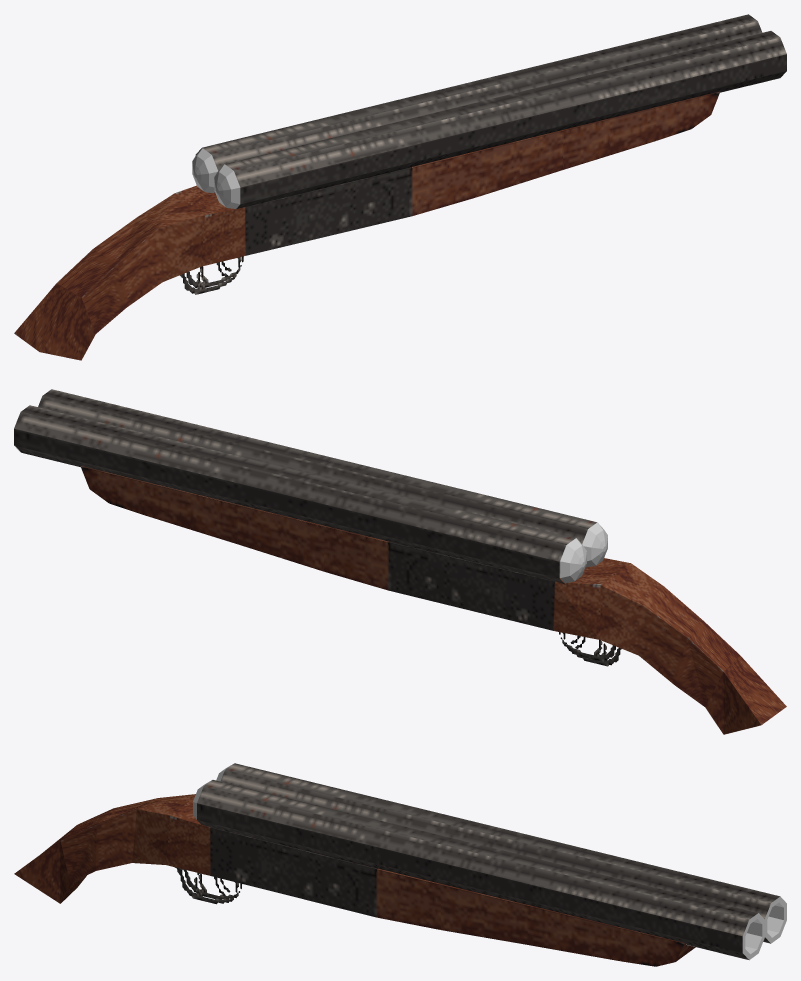
The model's file is sawnoff.obj.
3 renders of one model, top to bottom at view 1: azimuth 30°, elevation 25°; view 2: azimuth 150°, elevation 25°; view 3: azimuth 330°, elevation 25°, orthographic.
Parts seen in each view (by area): view 1: Default; view 2: Default; view 3: Default.
Part boxes in pixels (x1,y1,x2,y2): Default: (14,14,786,360); Default: (14,389,786,734); Default: (14,763,786,966).
Size of the model in its own units: 45.92 by 9.35 by 4.8.
